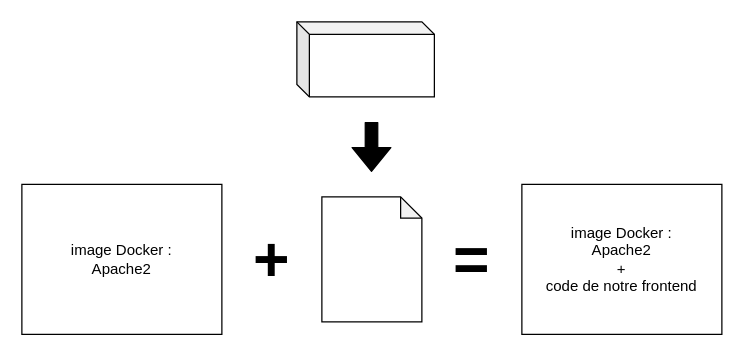
Image size: 744x356. Some labels were removed from this diagram. The centre of each missing label's shape, as x and y in pixels:
"code frontend" goes at point 365,59.
"Dockerfile" goes at point 371,259.
